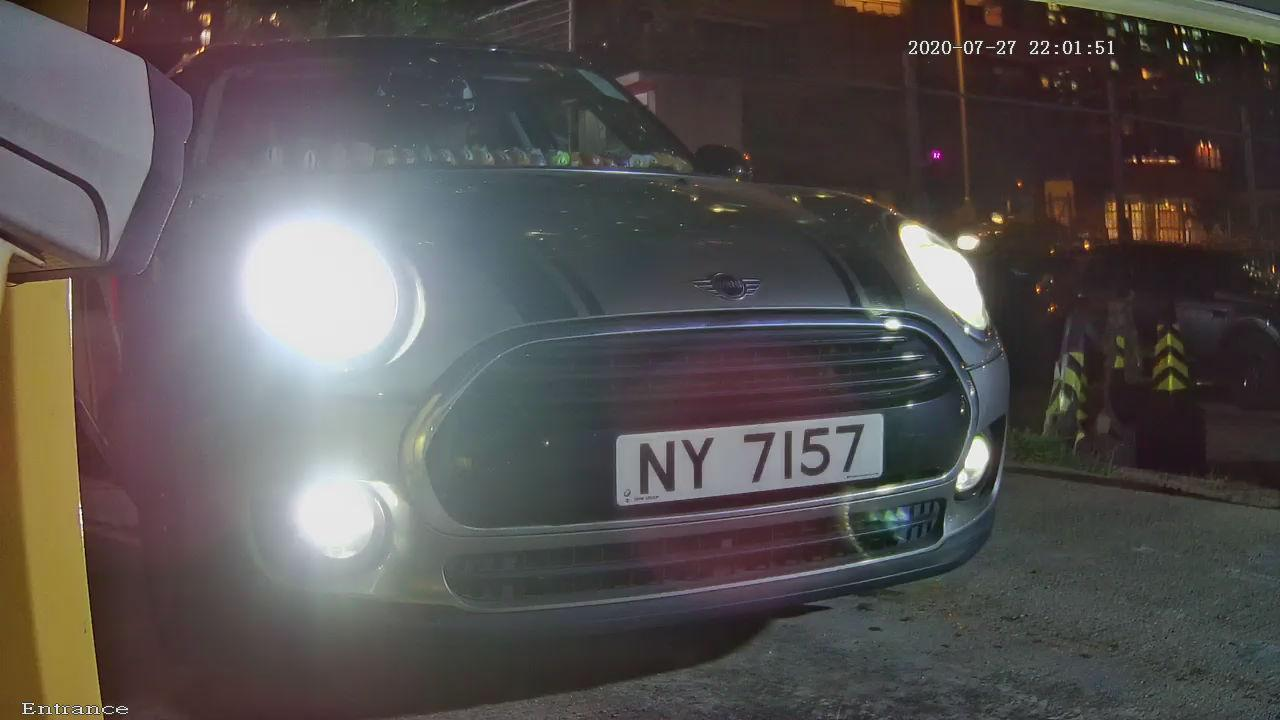privatecar: (92, 1, 1058, 701)
